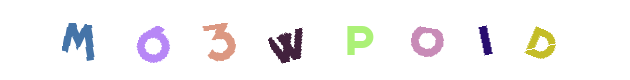0: (337, 0, 417, 80)
1: (348, 0, 428, 80)
3: (181, 0, 261, 80)
6: (113, 0, 193, 80)
D: (501, 0, 581, 80)
M: (64, 0, 144, 80)
P: (295, 0, 375, 80)
W: (276, 0, 356, 80)
